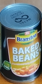beans: (1, 3, 41, 84)
